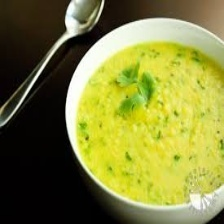dal: (72, 36, 224, 208)
